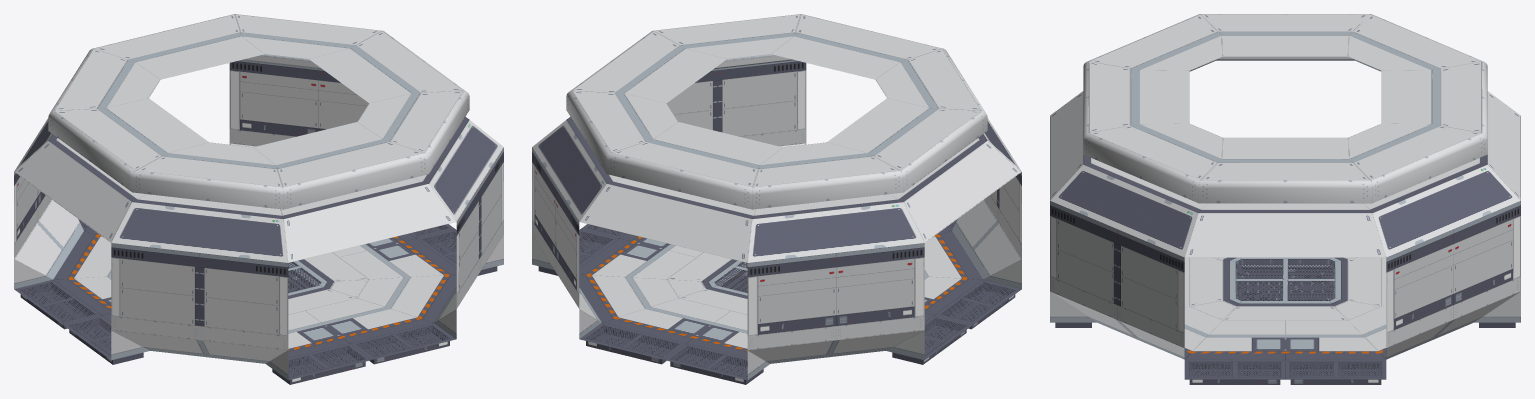
Rendered from Interior_Module_03.FBX.
3 renders of one model, left to right at view 1: azimuth 30°, elevation 25°; view 2: azimuth 150°, elevation 25°; view 3: azimuth 270°, elevation 25°, orthographic. The views are drawn at different scales.
Parts seen in each view (by area): view 1: Interior_Module_03; view 2: Interior_Module_03; view 3: Interior_Module_03.
Part boxes in pixels (bbox=[...]): Interior_Module_03: bbox=[14, 14, 503, 384]; Interior_Module_03: bbox=[532, 14, 1021, 384]; Interior_Module_03: bbox=[1050, 14, 1520, 384].
Size of the model in its own units: 14 by 6.25 by 14.
3 materials, 3 textured.
